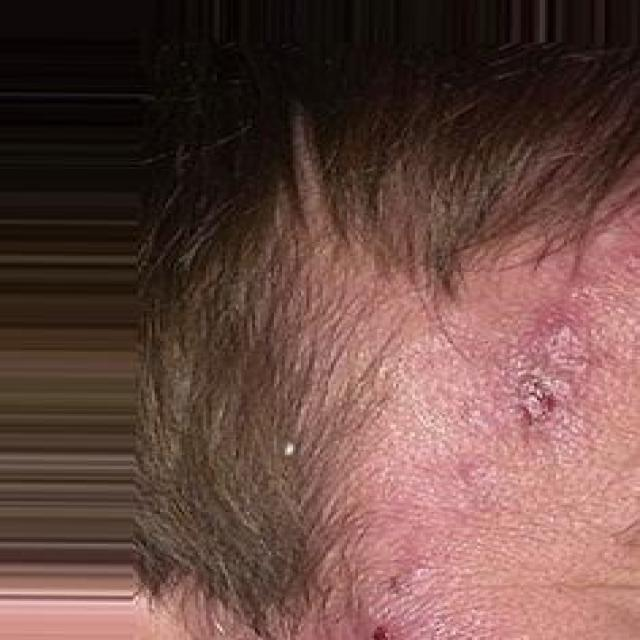Rosacea: (344, 235, 640, 633)
